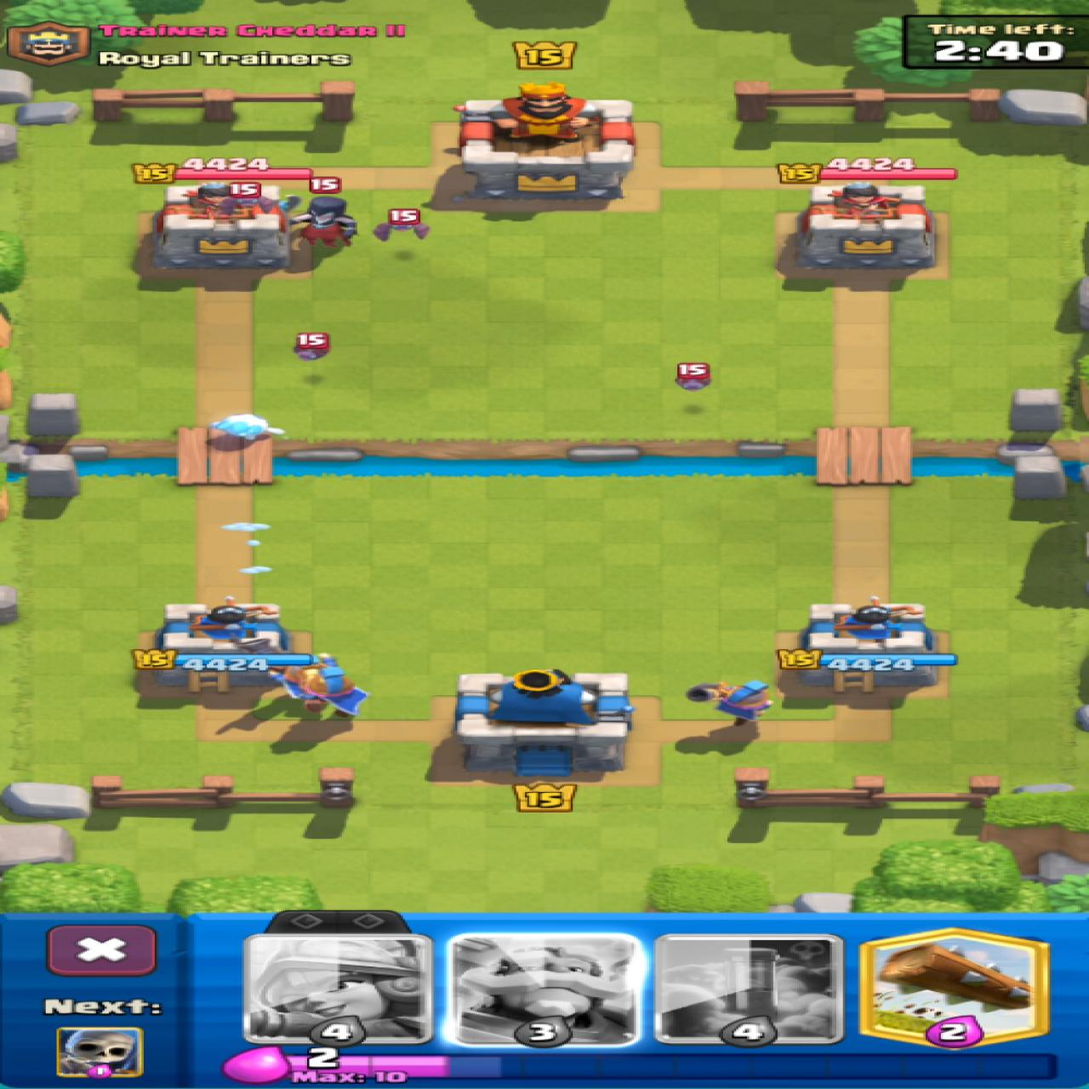Enemy-Bat: (372, 209, 429, 241), (222, 185, 277, 214), (675, 362, 710, 391), (294, 336, 329, 360)
Enemy-KingTower: (455, 84, 634, 198)
Enemy-NightWitch: (290, 196, 355, 245), (281, 196, 301, 212)
Enemy-PrincessTower: (795, 183, 934, 278), (152, 183, 285, 266)
